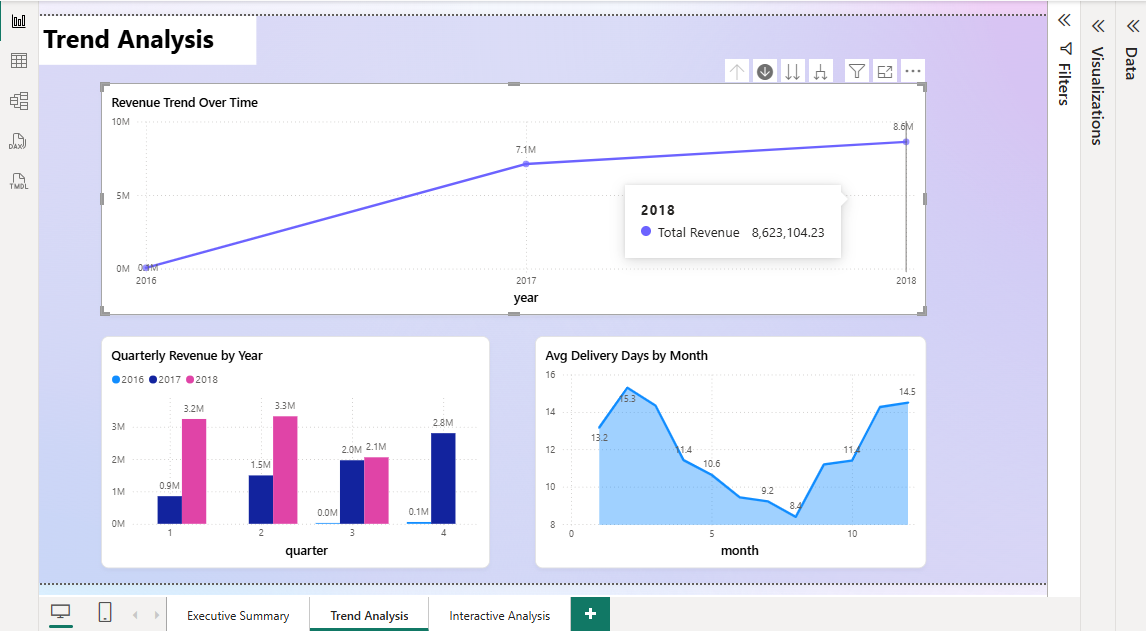

The dashboard page shown, as its layout file describes it:
{"tool":"powerbi","page":{"name":"Trend Analysis","canvas":[1280,720],"ordinal":1},"visuals":[{"type":"lineChart","title":"Revenue Trend Over Time","fields":{"Y":["DM_Sales_Revenue.Total Revenue"],"Category":["DM_Sales_Revenue.year Hierarchy.year","DM_Sales_Revenue.year Hierarchy.quarter","DM_Sales_Revenue.year Hierarchy.month"]},"box":[78.2,85.1,1048.4,295],"z":0},{"type":"textbox","box":[0,0,275.8,61.7],"z":1000},{"type":"clusteredColumnChart","title":"Quarterly Revenue by Year","fields":{"Category":["DM_Sales_Revenue.quarter"],"Y":["DM_Sales_Revenue.Total Revenue"],"Series":["DM_Sales_Revenue.year"]},"box":[78.2,406.2,494,295],"z":2000},{"type":"areaChart","title":"Avg Delivery Days by Month","fields":{"Category":["DM_Customer_Experience.month"],"Y":["DM_Customer_Experience.Average Delivery Duration"]},"box":[629.8,406.2,496.7,295],"z":3000}]}

Visuals, with their boxes on the page's 1280x720 design canvas (x1, y1, x2, y2). These are canvas units, not pixel positions in the 1146x631 screenshot, which may show the page scaled, cropped or inside an application window:
"Revenue Trend Over Time" lineChart: BBox(78, 85, 1127, 380)
textbox: BBox(0, 0, 276, 62)
"Quarterly Revenue by Year" clusteredColumnChart: BBox(78, 406, 572, 701)
"Avg Delivery Days by Month" areaChart: BBox(630, 406, 1126, 701)
